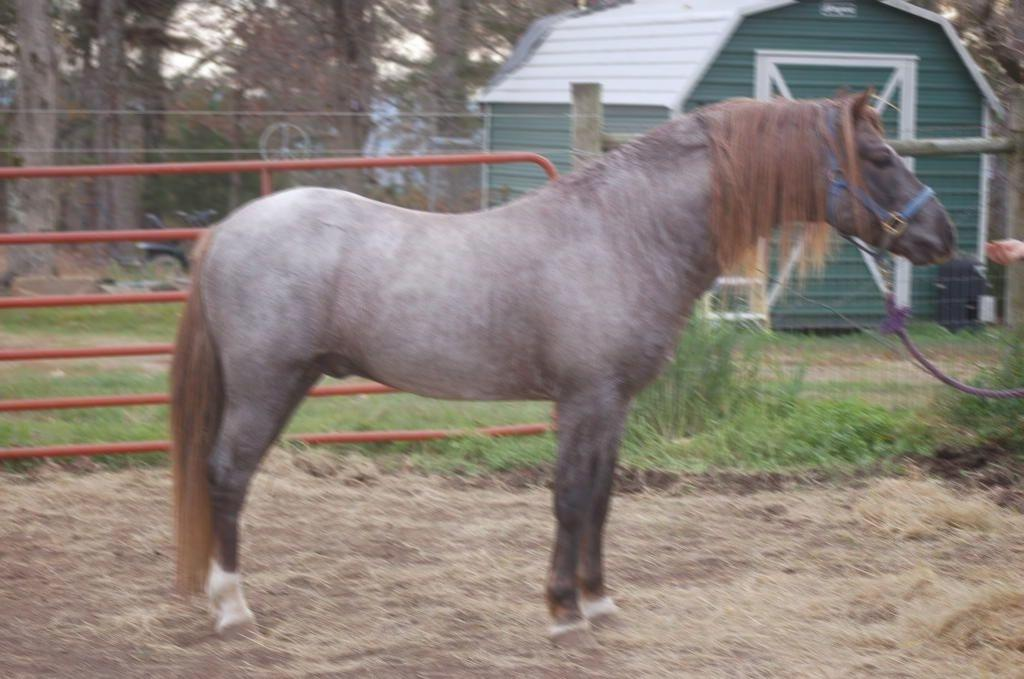horse: (166, 80, 958, 649)
